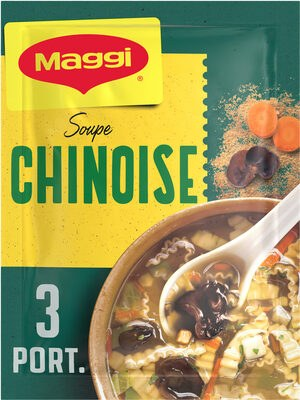MAGGI Soupe Chinoise 60g: (15, 20, 285, 380)
